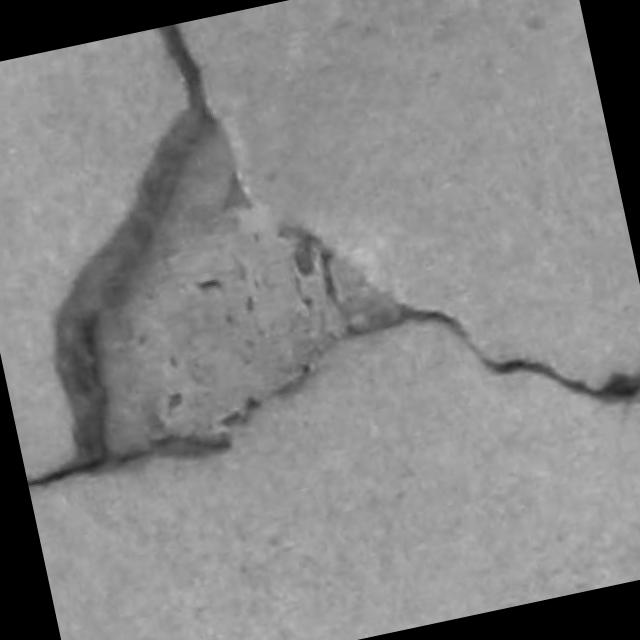crack: (27, 24, 231, 485), (27, 24, 219, 486), (101, 209, 358, 451), (398, 304, 639, 402)
